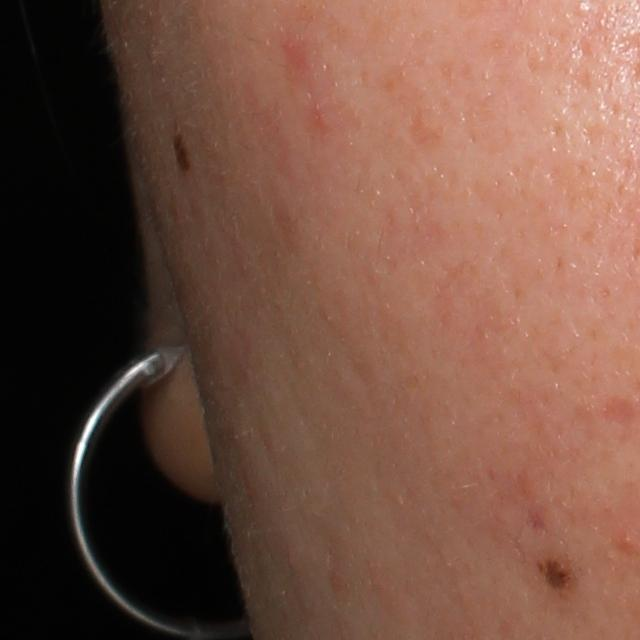atrophic_scar: (596, 394, 640, 427)
nevus: (533, 555, 578, 590), (171, 131, 194, 174)
